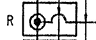Single Phase Tap-Off Unit: (20, 0, 79, 38)
